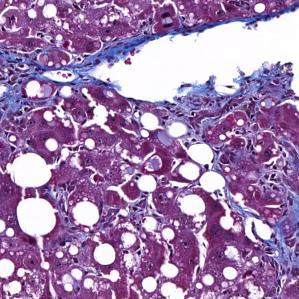fibrosis: (0, 44, 102, 102), (219, 68, 295, 116)
